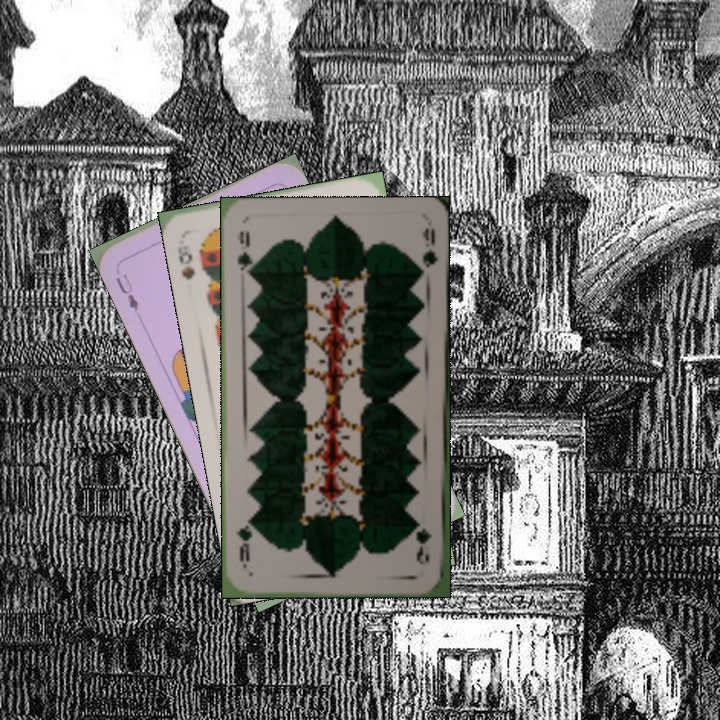EU: (111, 269, 142, 314)
G9: (234, 226, 255, 281), (415, 525, 434, 568)
S8: (173, 241, 198, 282)
